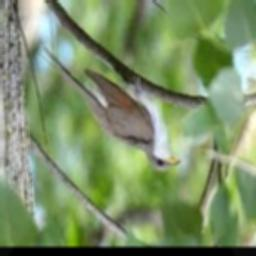Cuckoo: (40, 46, 181, 171)
